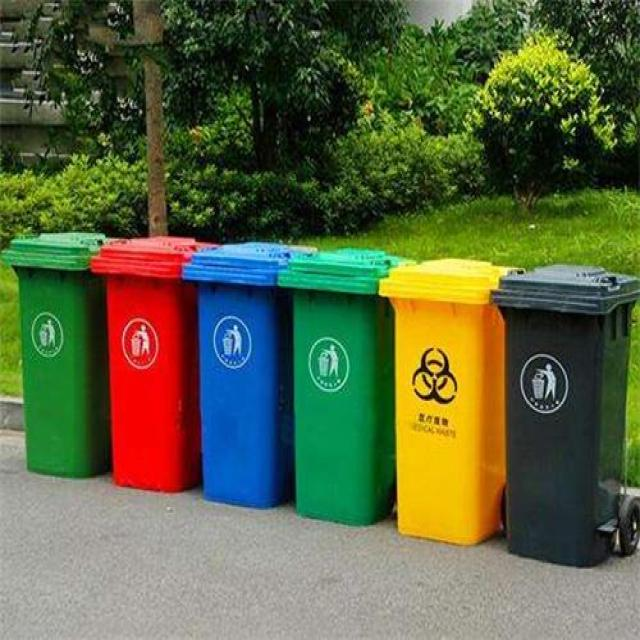garbage_bin: (489, 260, 639, 569), (376, 257, 512, 545), (275, 245, 407, 522), (183, 239, 316, 510), (90, 235, 216, 493), (0, 230, 110, 477)
